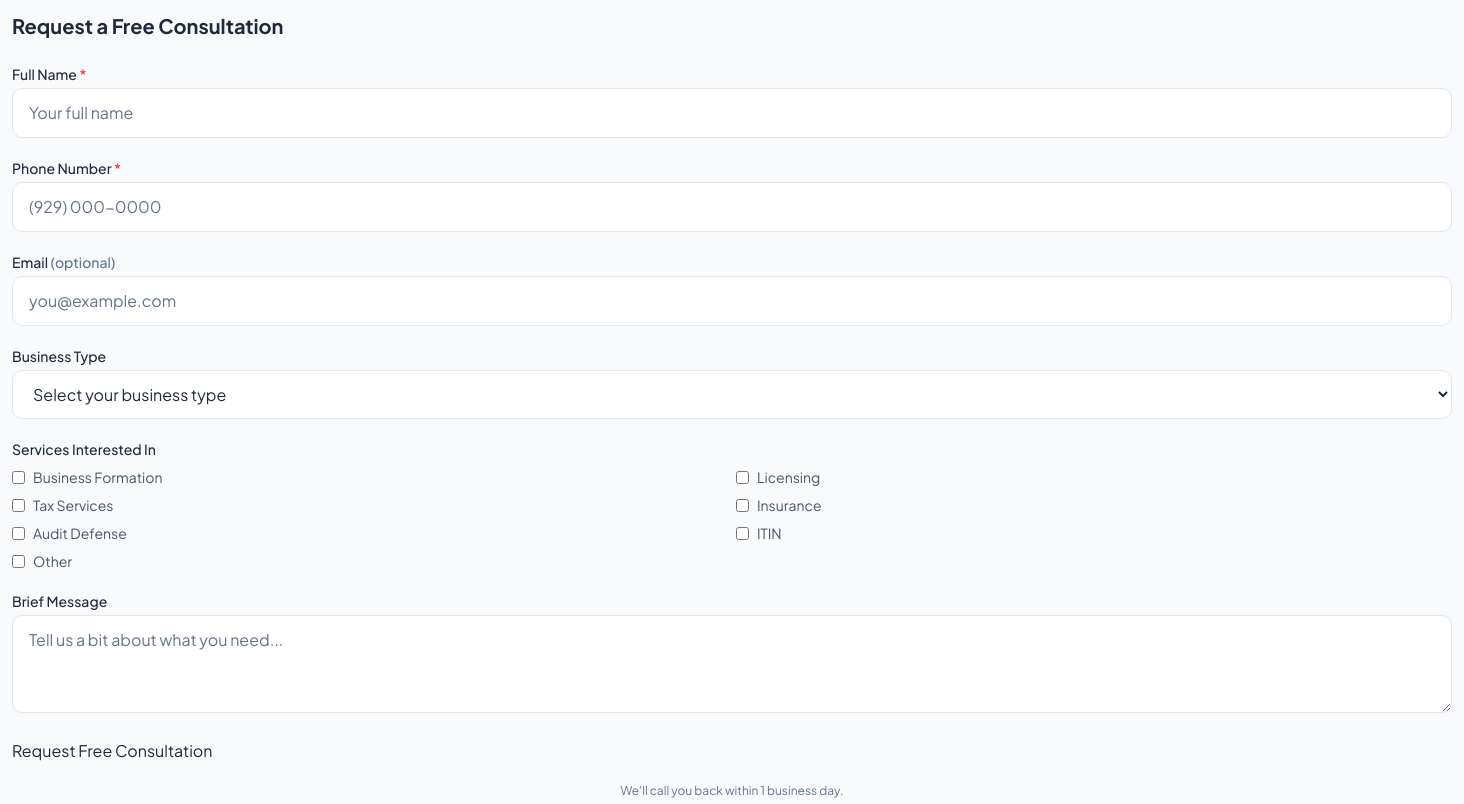
it: ContactForm › displays error message when success flag is false in the response body
The image size is (1464, 804).
Type "Jane Doe" into the field labelled "Full Name *" at (732, 113), box [12,88,1452,138]
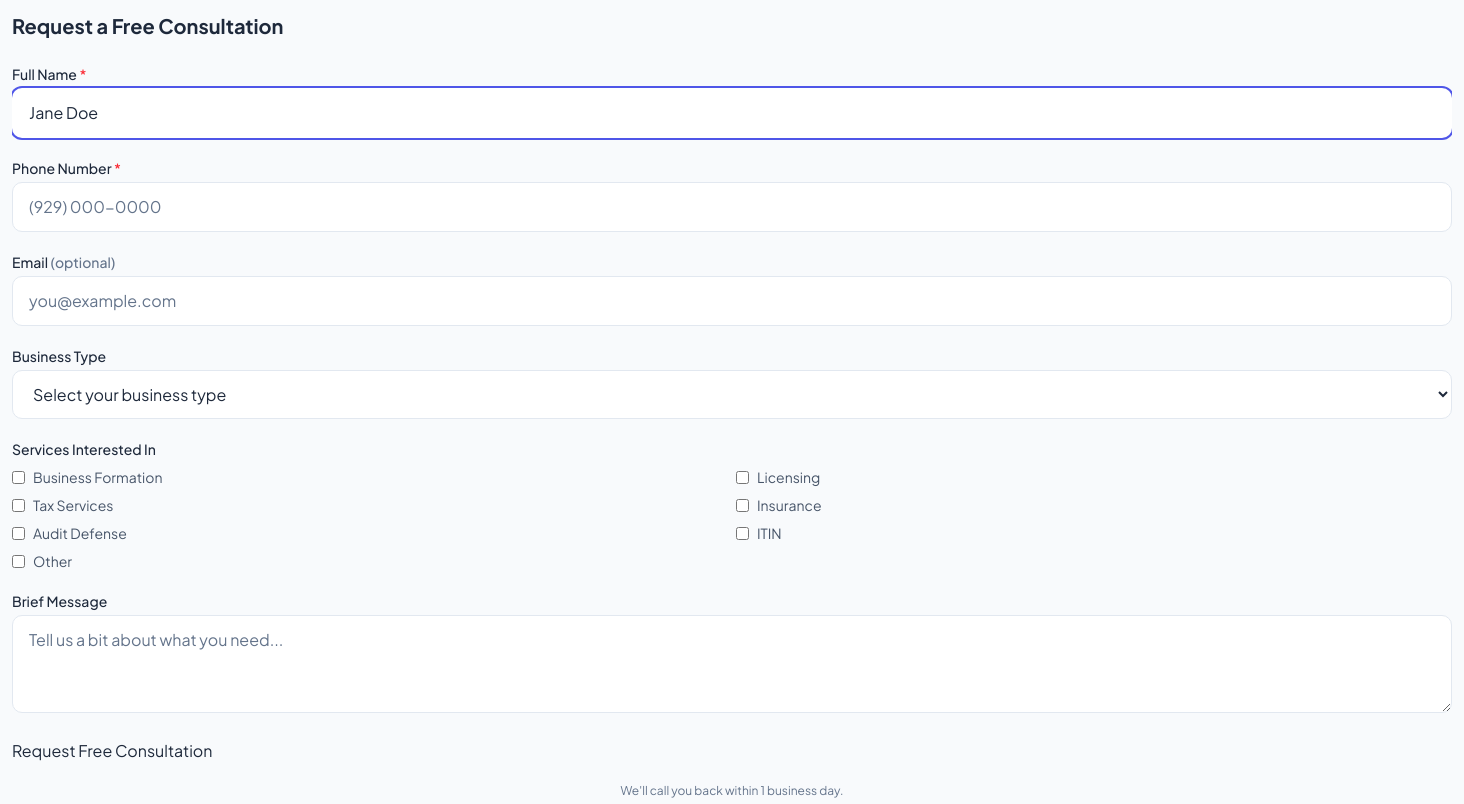
Type "9299290000" into the field labelled "Phone Number *" at (732, 207), box [12,182,1452,232]
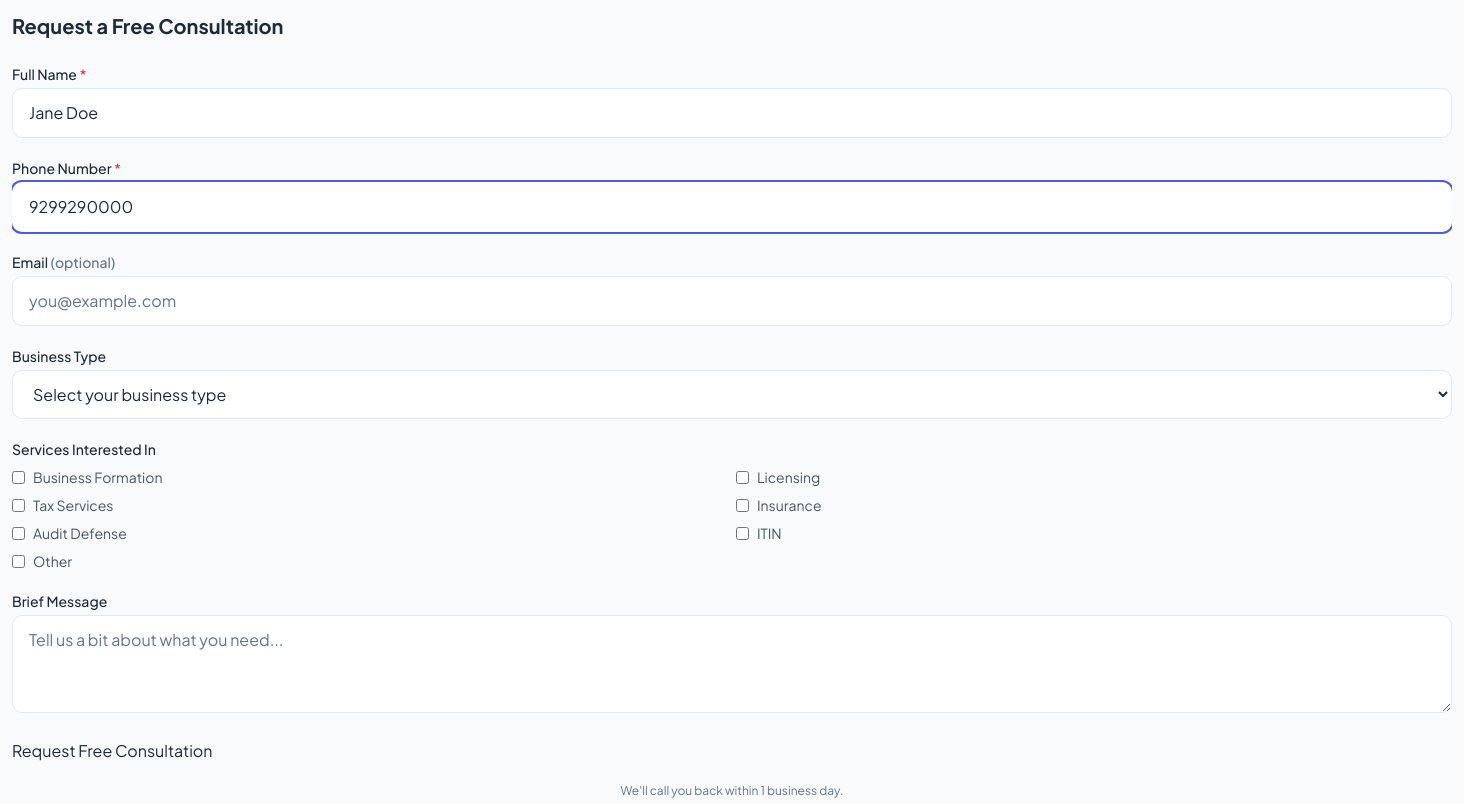
Click the button "Request Free Consultation" at (112, 751), box [12,739,212,763]
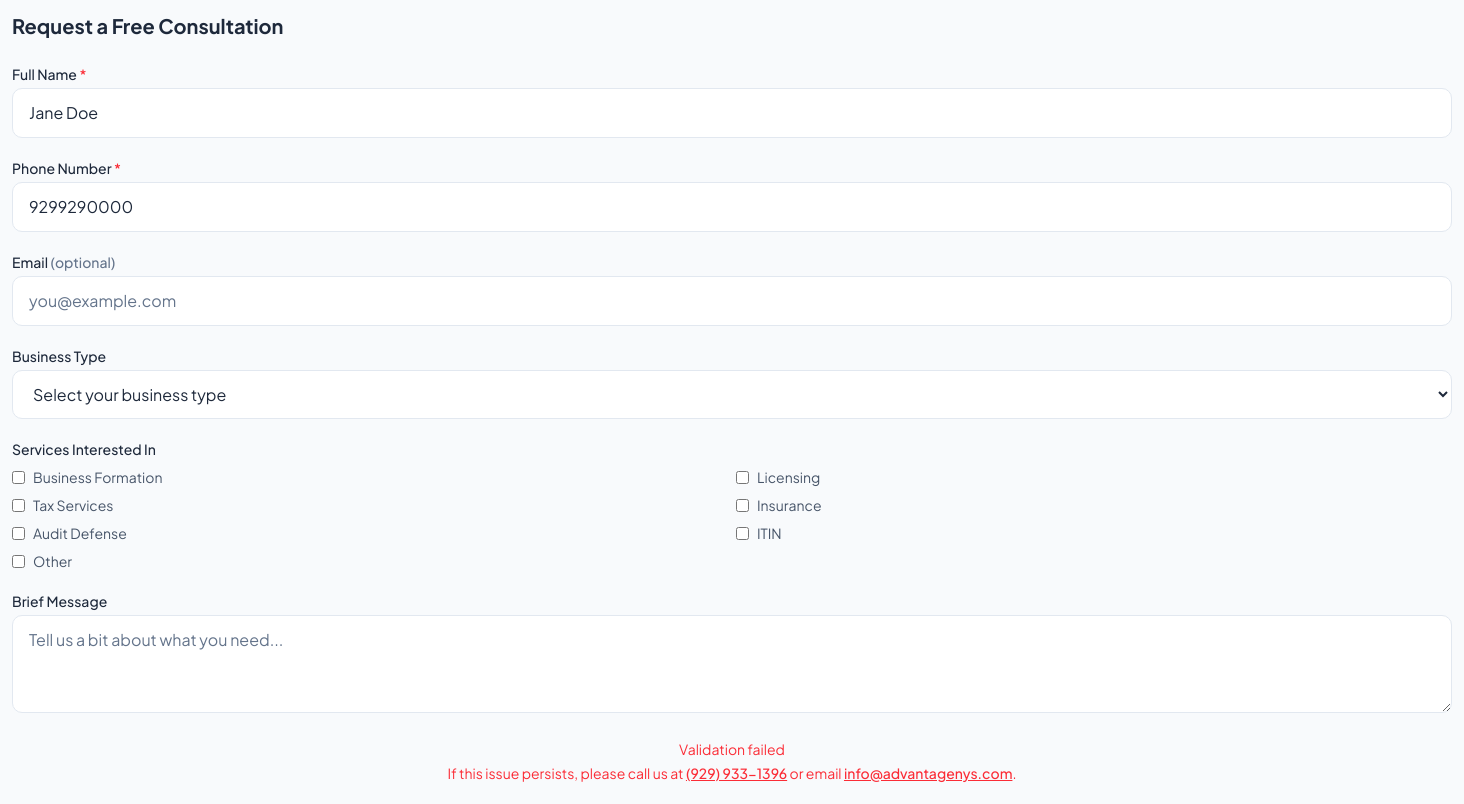
Now the text "Validation failed" is shown, box [679,740,785,758]
